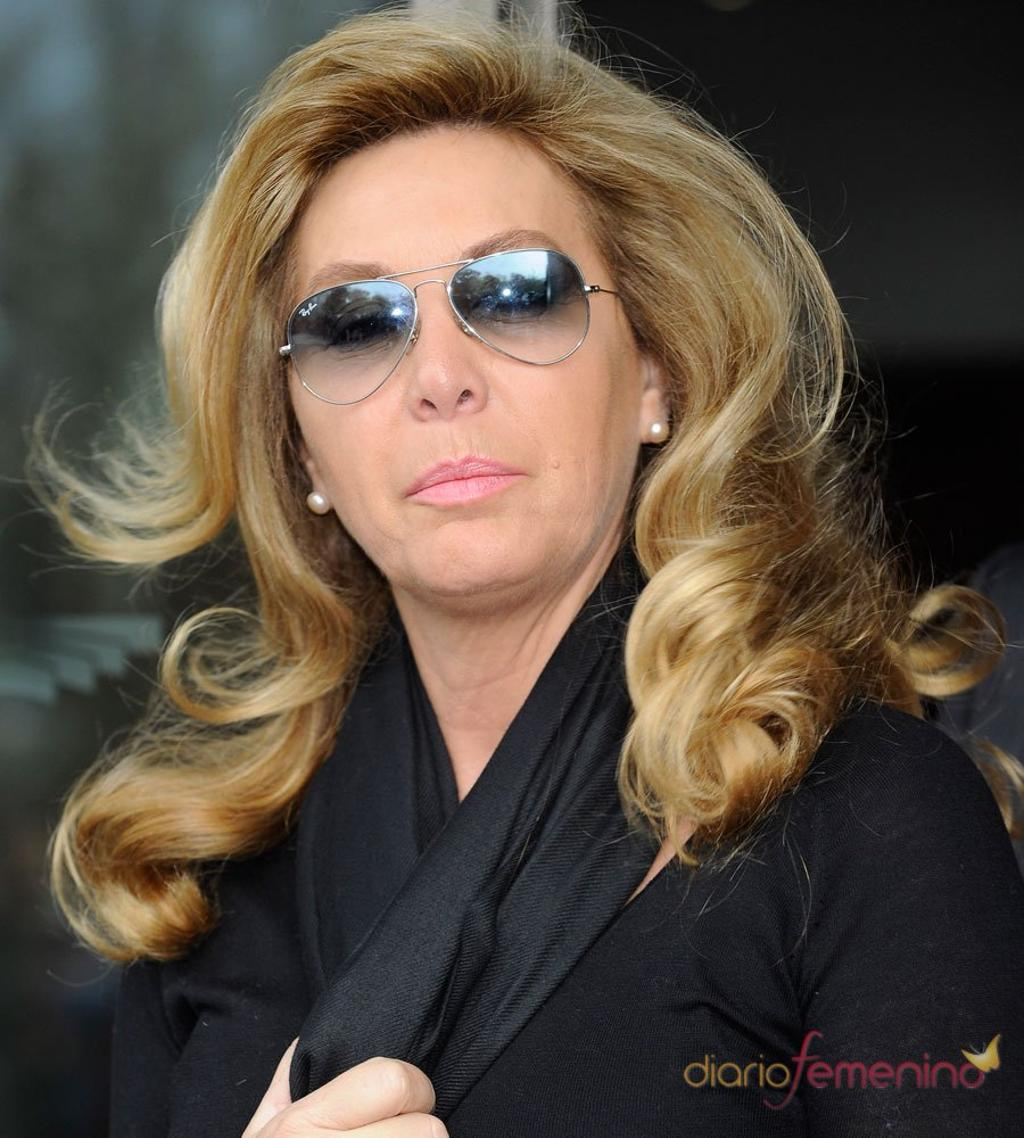face: (296, 143, 611, 567)
